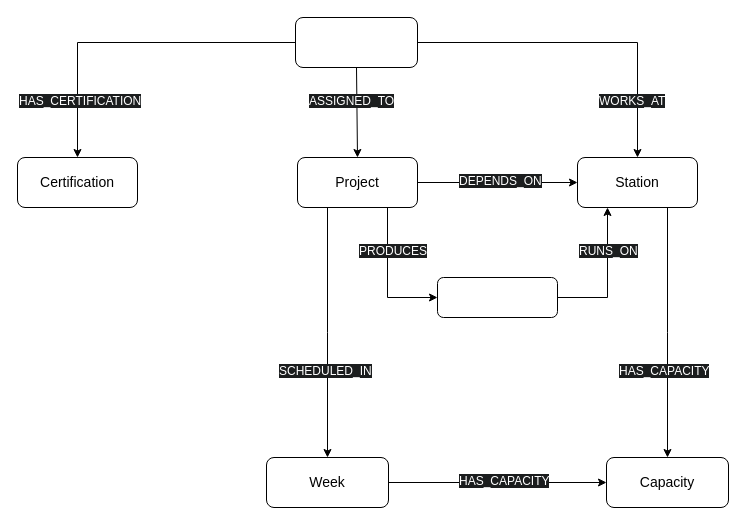
Some shapes in this 746 by 525 pixel diagram are drawn without their labels. Each missing label, with the box of its shape:
Product: (436, 276, 558, 318)
Worker: (294, 16, 418, 68)
